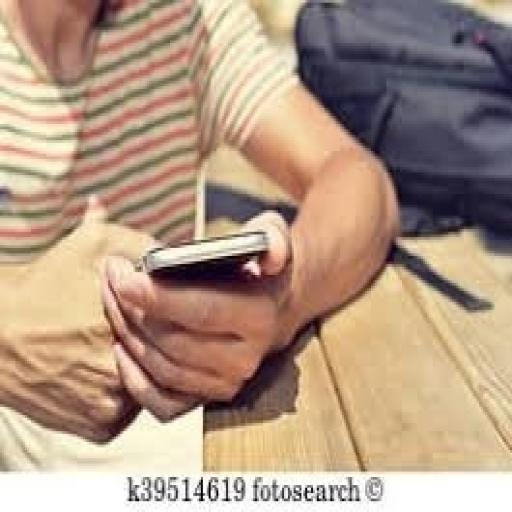texting: (0, 0, 402, 469)
